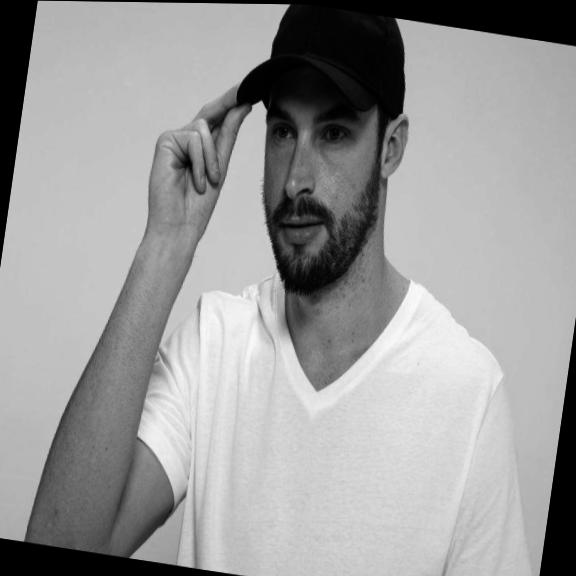no_safety_vest: (105, 234, 576, 576)
